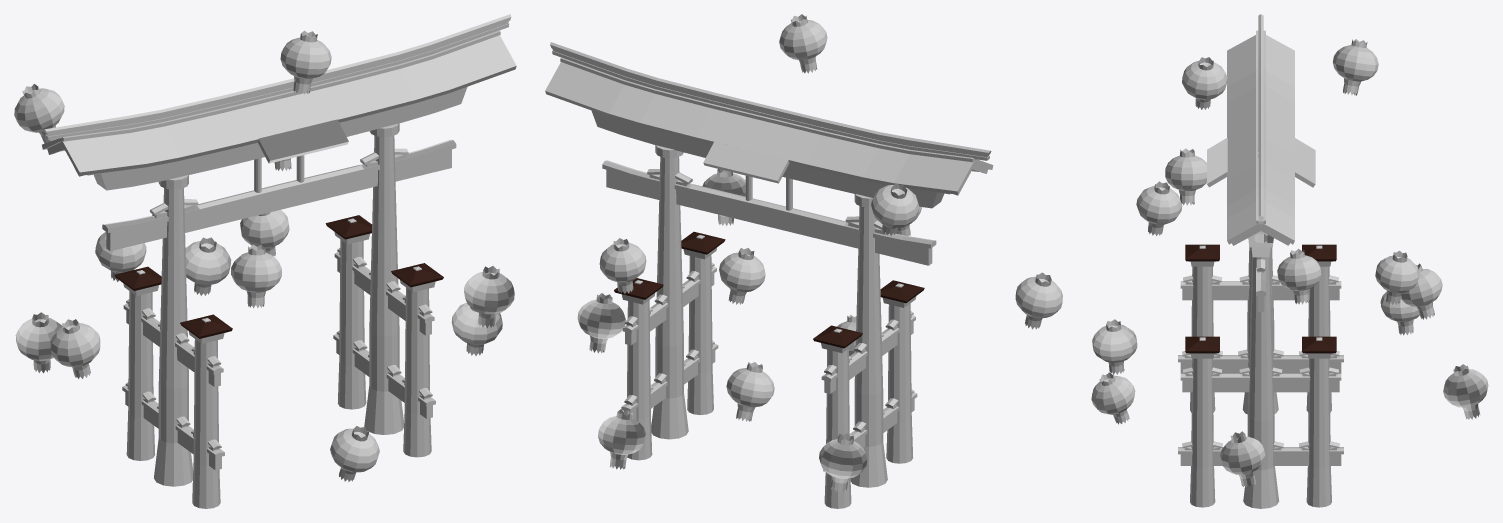
The model's file is gate.obj.
3 views of the same model, side by side, from view 1: azimuth 30°, elevation 25°; view 2: azimuth 150°, elevation 25°; view 3: azimuth 270°, elevation 25° (orthographic). The views are drawn at different scales.
Parts seen in each view (by area): view 1: group674213820, group2112404912, group2102673328, group1663585988, group1582756720, group1986319060, group679819663, group828070390, group1738134039, group1771167811, group1696188762, group711260887 (+10 smaller); view 2: group674213820, group2112404912, group2102673328, group1663585988, group1582756720, group1986319060, group679819663, group1562799948, group1342856348, group729000303, group1771167811, group1190821758 (+9 smaller); view 3: group674213820, group2112404912, group2102673328, group1880701193, group1112741560, group1342856348, group1696188762, group1738134039, group1582756720, group1771167811, group711260887, group467616785 (+11 smaller).
Part boxes in pixels (x1,y1,x2,y2): group674213820: (277, 123, 456, 457); group2112404912: (42, 82, 297, 190); group2102673328: (280, 14, 516, 136); group1663585988: (154, 188, 193, 486); group1582756720: (192, 339, 220, 508); group1986319060: (126, 291, 154, 460); group679819663: (106, 193, 280, 251); group828070390: (258, 119, 348, 163); group1738134039: (231, 244, 281, 308); group1771167811: (280, 30, 331, 94); group1696188762: (464, 266, 514, 327); group711260887: (50, 319, 100, 378); group674213820: (602, 145, 770, 460); group2112404912: (751, 106, 993, 208); group2102673328: (545, 42, 768, 157); group1663585988: (850, 206, 887, 487); group1582756720: (886, 303, 913, 463); group1986319060: (824, 348, 851, 508); group679819663: (767, 211, 932, 265); group1562799948: (703, 142, 789, 183); group1342856348: (577, 293, 625, 353); group729000303: (819, 433, 867, 492); group1771167811: (779, 14, 827, 73); group1190821758: (726, 362, 774, 421); group674213820: (1178, 238, 1343, 508); group2112404912: (1227, 14, 1294, 154); group2102673328: (1227, 125, 1294, 257); group1880701193: (1443, 364, 1488, 419); group1112741560: (1332, 39, 1378, 95); group1342856348: (1220, 431, 1265, 487); group1696188762: (1092, 319, 1137, 374); group1738134039: (1136, 181, 1182, 235); group1582756720: (1190, 266, 1215, 412); group1771167811: (1182, 57, 1227, 109); group711260887: (1165, 148, 1206, 205); group467616785: (1277, 249, 1321, 304).
Size of the model in its own units: 6.06 by 5.17 by 4.69.
